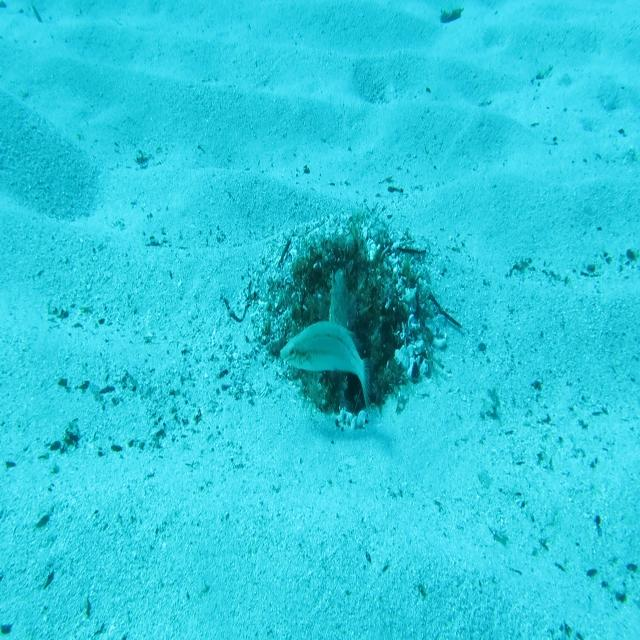ROLL: (323, 264, 358, 401)
core_nest: (313, 258, 370, 297)
female: (278, 314, 374, 418)
nest: (242, 196, 456, 432)
vegetation: (435, 3, 464, 23)
